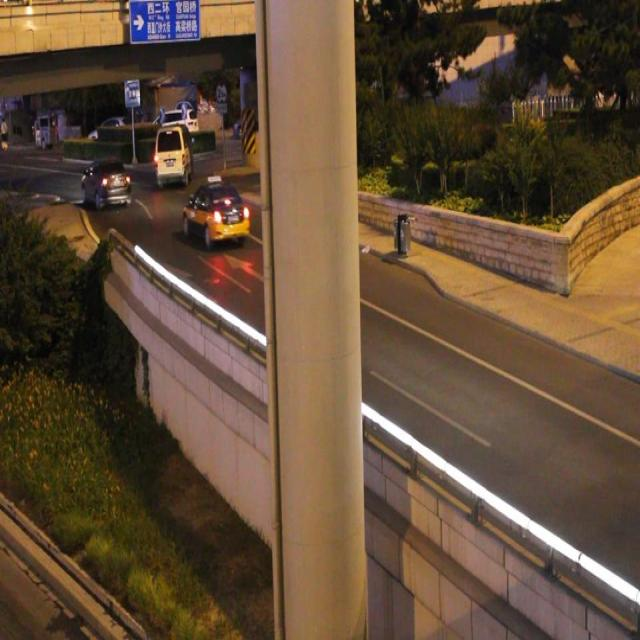car: (181, 173, 250, 244)
